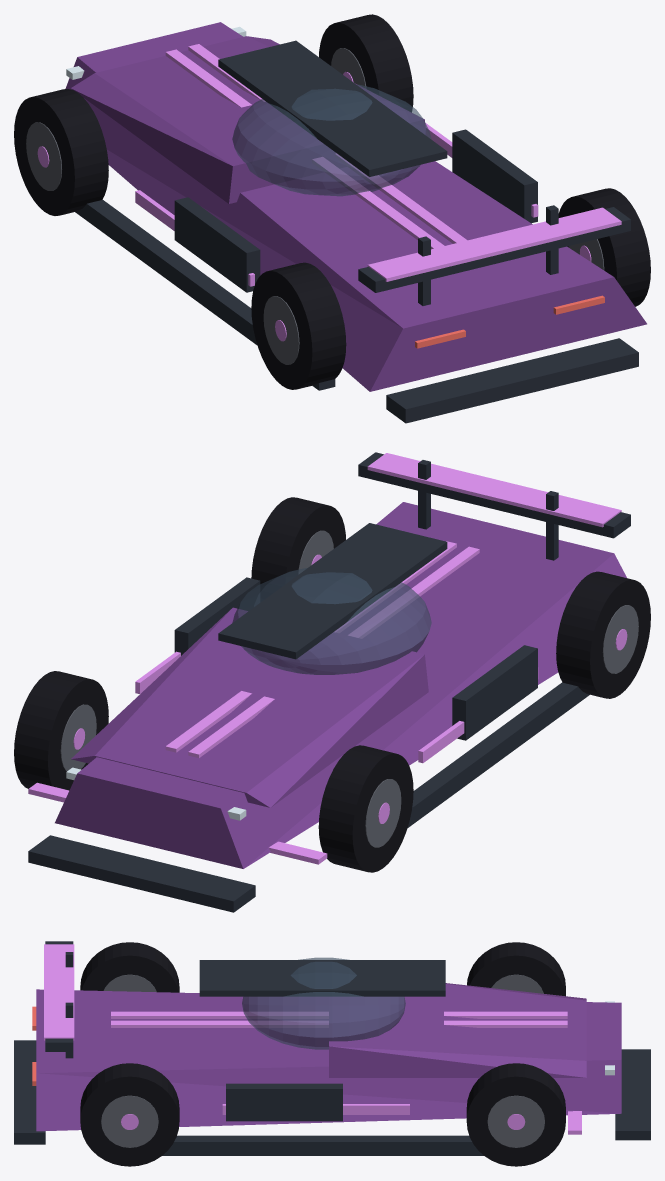
File: ghost.glb
3 renders of one model, top to bottom at view 1: azimuth 30°, elevation 25°; view 2: azimuth 150°, elevation 25°; view 3: azimuth 270°, elevation 25°, orthographic. The views are drawn at different scales.
Parts seen in each view (by area): view 1: body_chassis, hood_slope, carbon_roof_spine, dark_cockpit_canopy, rear_diffuser, left_rear_tire, left_front_tire, left_side_skirt, rear_spoiler_accent, right_front_tire, left_side_intake, right_rear_tire (+8 smaller); view 2: body_chassis, hood_slope, carbon_roof_spine, dark_cockpit_canopy, left_front_tire, left_rear_tire, front_splitter, right_front_tire, left_side_skirt, right_rear_tire, rear_spoiler_accent, left_side_intake (+12 smaller); view 3: body_chassis, hood_slope, carbon_roof_spine, dark_cockpit_canopy, right_side_skirt, right_front_tire, right_rear_tire, right_side_intake, left_rear_tire, left_front_tire, front_splitter, rear_spoiler_accent (+9 smaller).
Boxes of the visible parts, <box> form: body_chassis: <box>65,22,646,391</box>; hood_slope: <box>71,36,426,203</box>; carbon_roof_spine: <box>218,40,447,176</box>; dark_cockpit_canopy: <box>232,84,431,196</box>; rear_diffuser: <box>386,338,638,423</box>; left_rear_tire: <box>251,262,346,389</box>; left_front_tire: <box>14,89,108,215</box>; left_side_skirt: <box>75,199,335,390</box>; rear_spoiler_accent: <box>367,207,621,281</box>; right_front_tire: <box>319,14,413,112</box>; left_side_intake: <box>174,197,260,292</box>; right_rear_tire: <box>558,188,650,306</box>; body_chassis: <box>55,502,626,868</box>; hood_slope: <box>71,607,428,807</box>; carbon_roof_spine: <box>218,523,447,659</box>; dark_cockpit_canopy: <box>232,568,431,674</box>; left_front_tire: <box>318,745,413,872</box>; left_rear_tire: <box>556,571,650,698</box>; front_splitter: <box>28,835,255,912</box>; right_front_tire: <box>14,671,108,790</box>; left_side_skirt: <box>407,682,589,828</box>; right_rear_tire: <box>251,497,345,601</box>; rear_spoiler_accent: <box>367,453,621,527</box>; left_side_intake: <box>452,645,537,740</box>; body_chassis: <box>36,989,621,1131</box>; hood_slope: <box>329,983,586,1077</box>; carbon_roof_spine: <box>199,960,445,996</box>; dark_cockpit_canopy: <box>242,957,405,1049</box>; right_side_skirt: <box>162,1135,483,1155</box>; right_front_tire: <box>466,1063,565,1166</box>; right_rear_tire: <box>80,1063,179,1166</box>; right_side_intake: <box>226,1083,342,1121</box>; left_rear_tire: <box>80,942,179,992</box>; left_front_tire: <box>467,942,565,996</box>; front_splitter: <box>615,1049,650,1140</box>; rear_spoiler_accent: <box>44,944,74,1040</box>.
Bounding box in the file's own units: 2.52 × 1.1 × 5.
